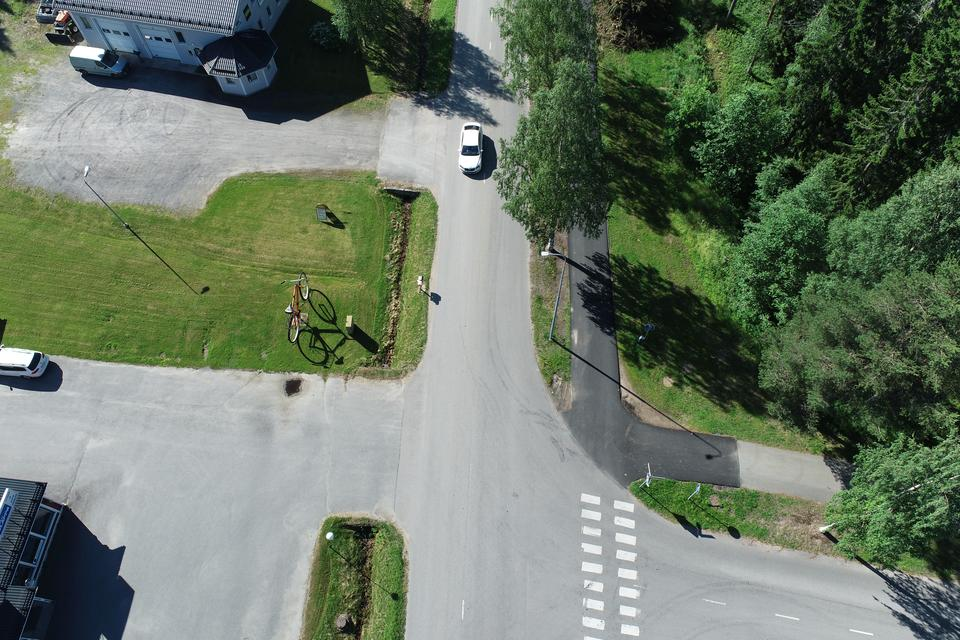intersection: (523, 357, 708, 640)
